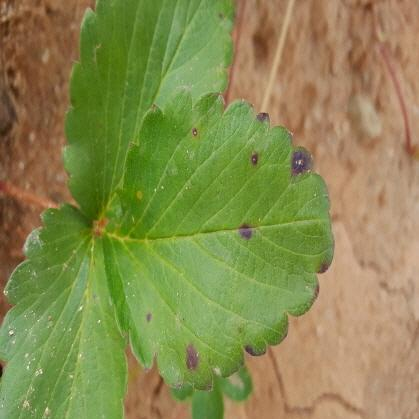Leaf Spot: (96, 86, 333, 392), (0, 202, 130, 418)
